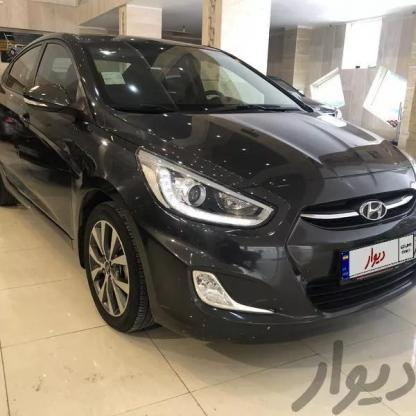Car: (0, 34, 416, 352)
